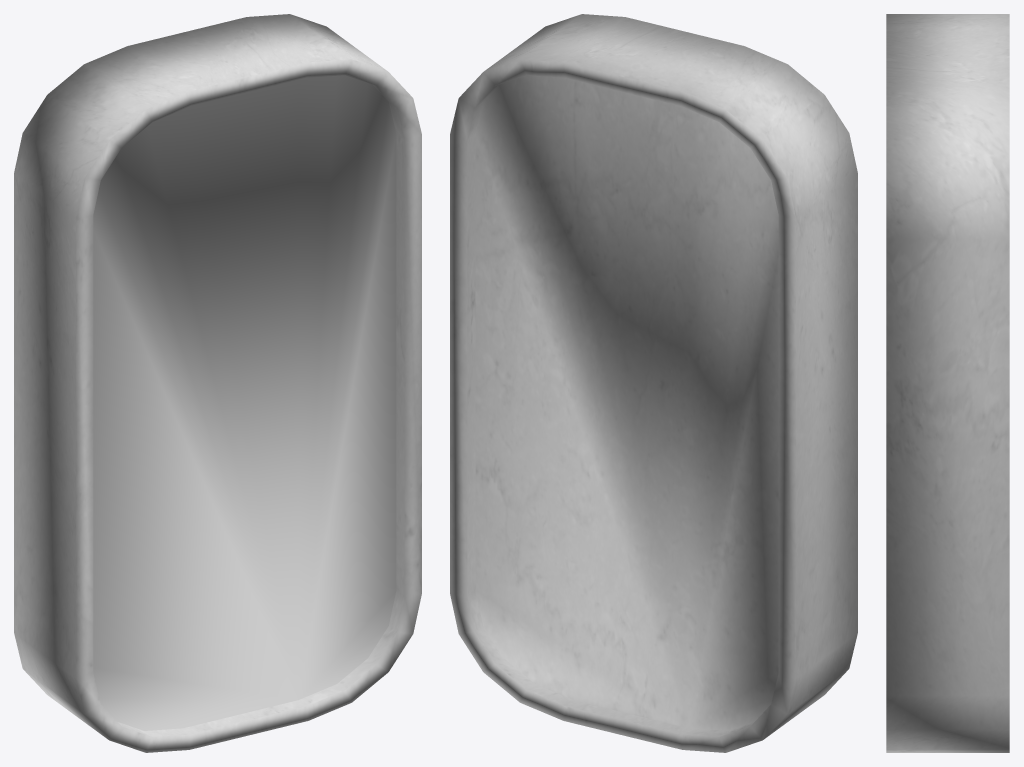
File: busStopSoundInfo.fbx
The picture shows the model from 3 angles, left to right: view 1: azimuth 30°, elevation 25°; view 2: azimuth 150°, elevation 25°; view 3: azimuth 270°, elevation 25°; orthographic projection.
Visible parts, largest first — view 1: BusStopSoundInfo; view 2: BusStopSoundInfo; view 3: BusStopSoundInfo.
Part boxes in pixels (x1,y1,x2,y2): BusStopSoundInfo: (14, 14, 421, 752); BusStopSoundInfo: (450, 14, 857, 752); BusStopSoundInfo: (886, 14, 1009, 752).
Bounding box in the file's own units: 50.4 × 91.67 × 15.63.
